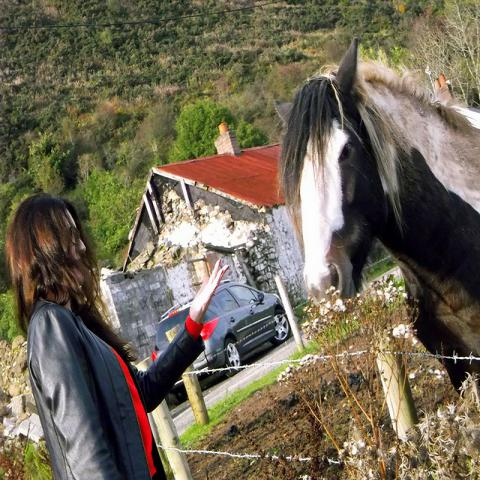car: (152, 279, 291, 389)
